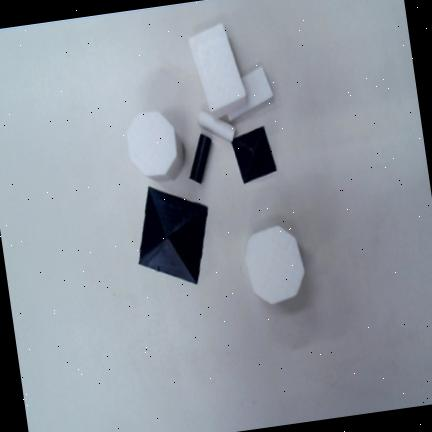Cilindro: (197, 109, 236, 142), (189, 134, 211, 184)
Paralelepipedo: (187, 20, 248, 118), (226, 64, 275, 122)
Piramide: (139, 185, 208, 284), (231, 126, 277, 183)
Prisma_hexagonal: (244, 225, 305, 304), (126, 111, 183, 181)
